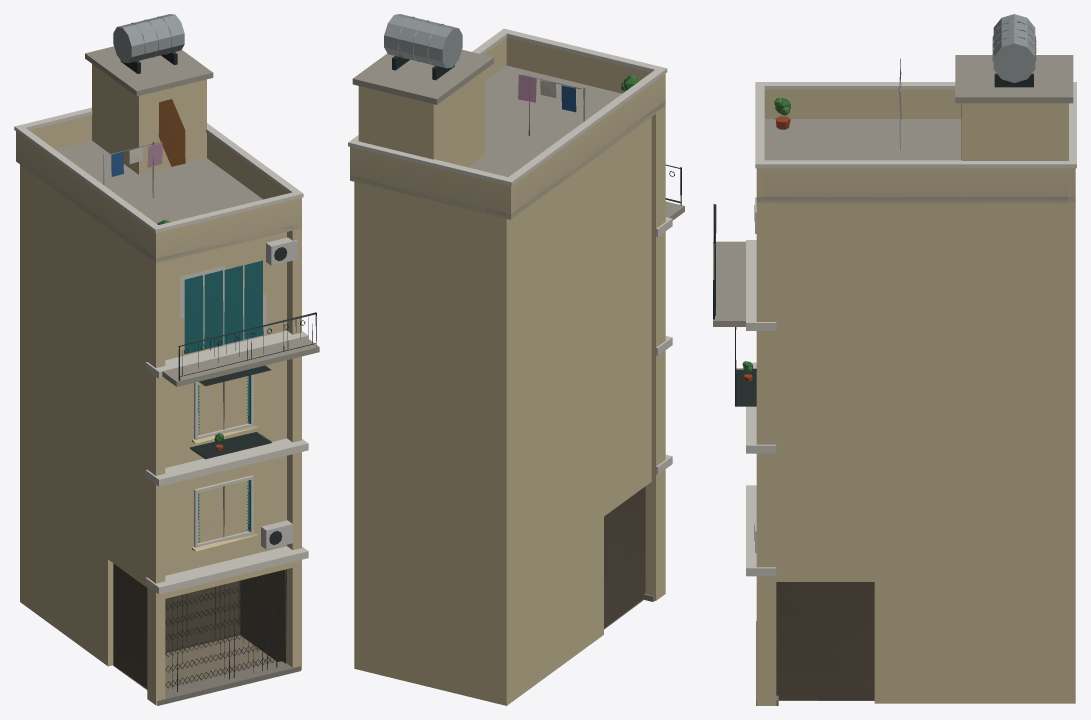
Rendered from nha_G.glb.
3 renders of one model, left to right at view 1: azimuth 30°, elevation 25°; view 2: azimuth 150°, elevation 25°; view 3: azimuth 270°, elevation 25°, orthographic. The views are drawn at different scales.
Parts seen in each view (by area): view 1: nha_G; view 2: nha_G; view 3: nha_G.
Boxes of the visible parts, x1=… form: nha_G: x1=14, y1=14, x2=319, y2=705; nha_G: x1=348, y1=14, x2=684, y2=705; nha_G: x1=713, y1=14, x2=1076, y2=705.
Bounding box in the file's own units: 4.5 × 16.58 × 8.33.
